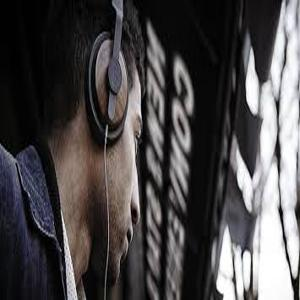Headphones: (76, 1, 133, 144)
